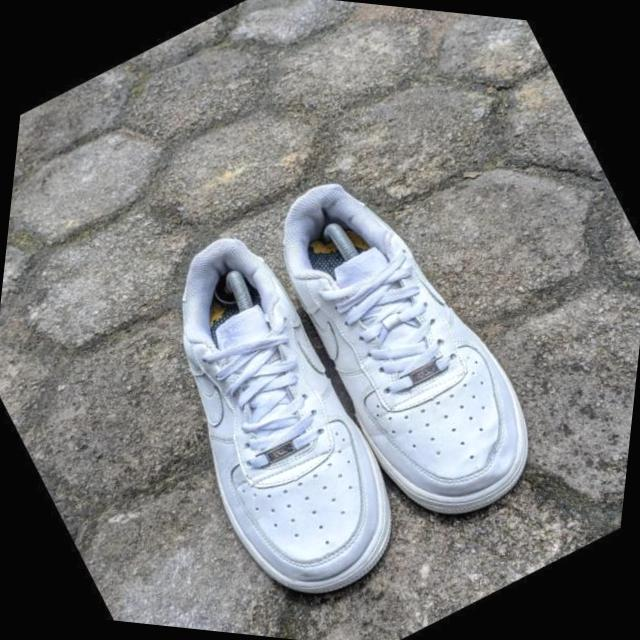nike_fake_airforce: (76, 204, 458, 640), (216, 134, 588, 559)
